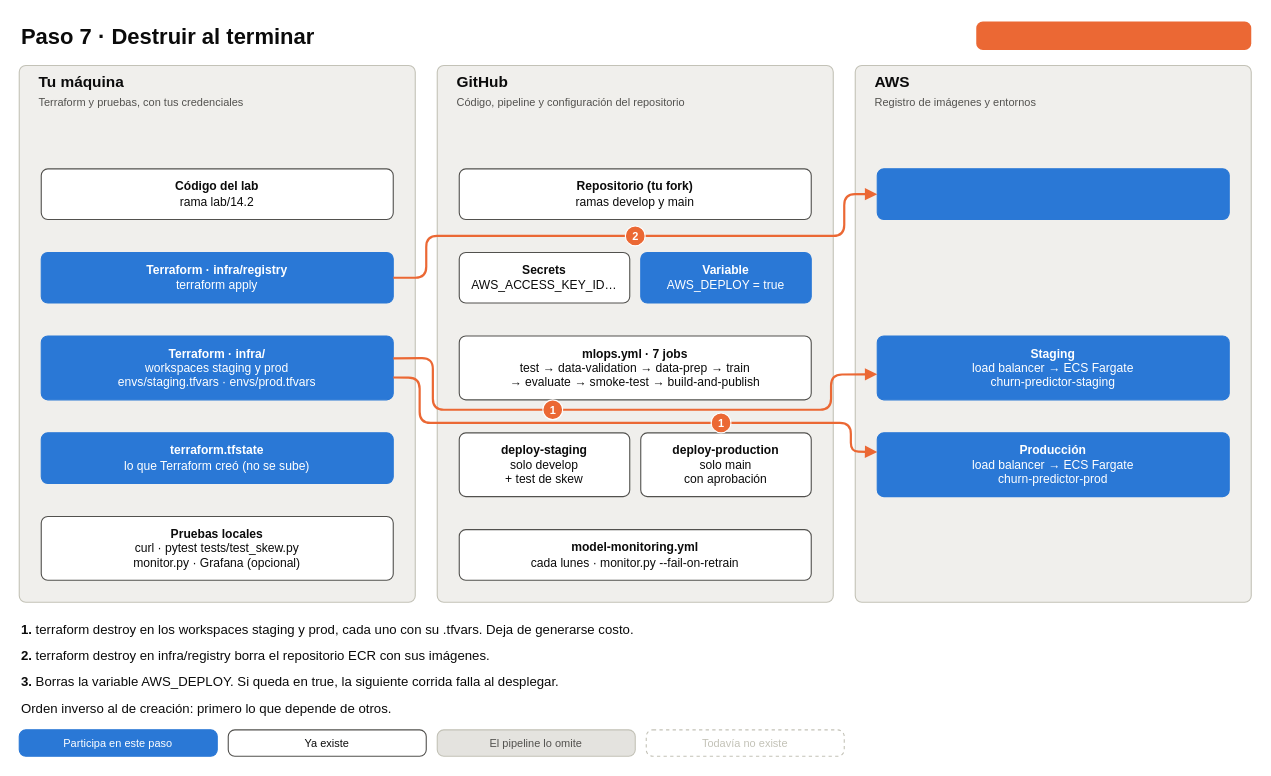
Image size: 1271x776. Some labels were removed from this diagram. Each missing label, with the box of its shape:
Al terminar · paso 6.9: (976, 21, 1251, 50)
Amazon ECR repositorio churn-predictor: (876, 168, 1229, 219)
